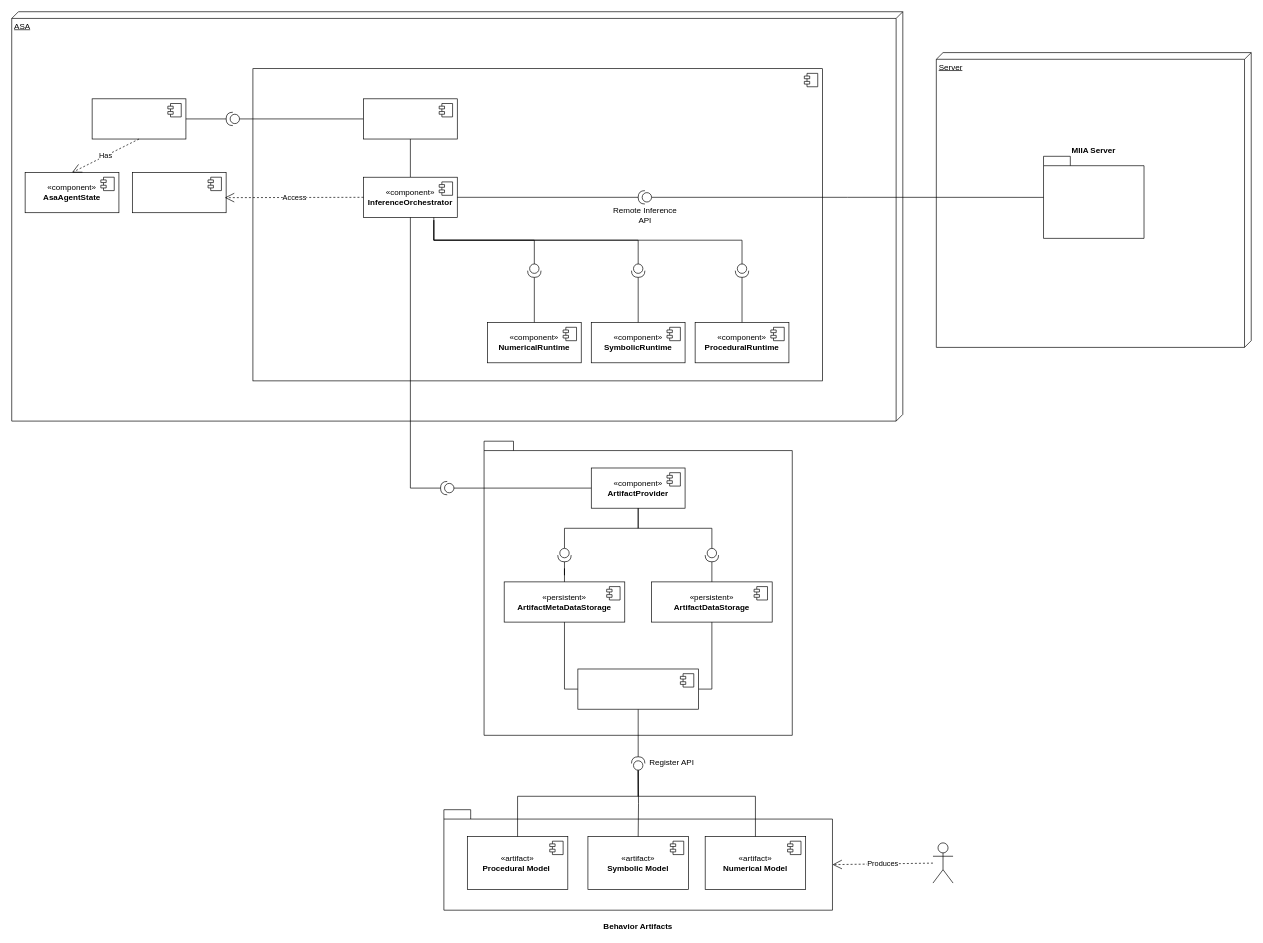
Some shapes in this 1263 by 943 pixel diagram are drawn without their labels. Each missing label, with the box of its shape:
Actor: (932, 842, 953, 883)
Artifact Data API: (440, 481, 454, 495)
Inference API: (225, 112, 240, 126)
MIIA Registry: (483, 441, 792, 735)
«component» ArtifactProfiler: (577, 668, 698, 709)
«component» AsaAgent: (91, 98, 186, 139)
«component» AsaSharedData: (132, 172, 226, 213)
«component» InferenceProvider: (363, 98, 457, 139)
«library» MIIA Runtime: (252, 68, 822, 381)
